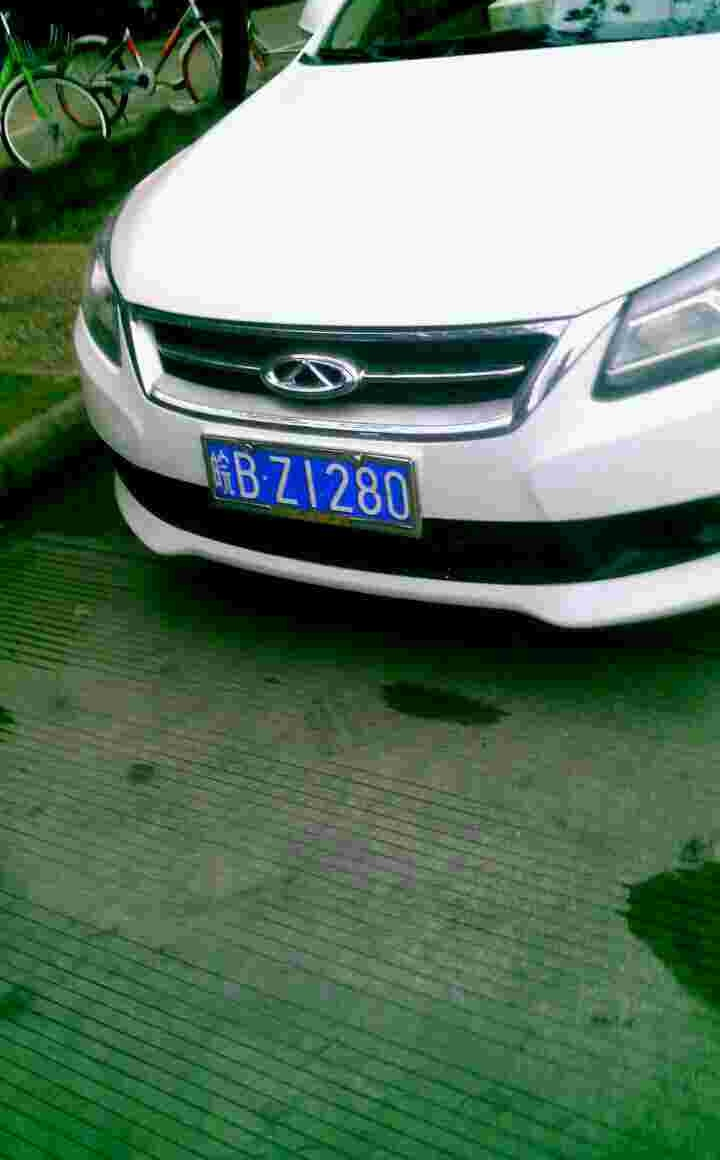license_plate: (211, 442, 418, 530)
